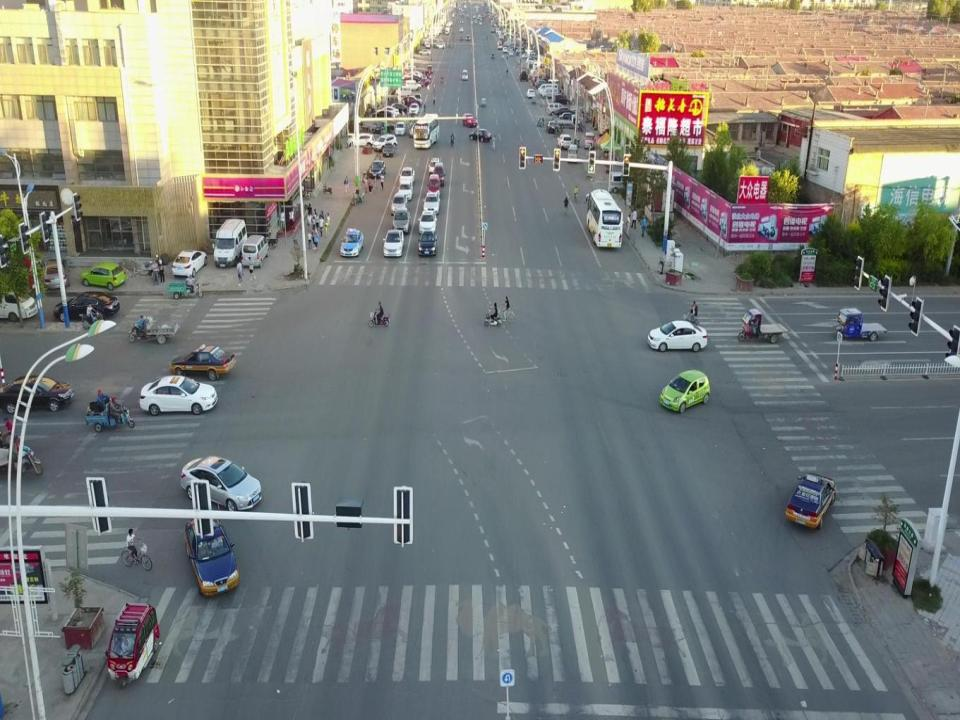bus: (585, 189, 623, 247), (411, 113, 439, 149)
car: (181, 455, 262, 513), (184, 516, 239, 596), (139, 375, 217, 415), (0, 375, 74, 413), (785, 473, 836, 528), (169, 344, 236, 380), (660, 370, 710, 413), (54, 292, 119, 322), (648, 320, 708, 352), (171, 250, 207, 277), (340, 228, 364, 256), (382, 230, 404, 256), (417, 230, 437, 255), (418, 211, 437, 234), (423, 192, 440, 214), (369, 160, 386, 179), (397, 180, 413, 200), (469, 129, 492, 142), (399, 166, 414, 185), (372, 122, 394, 134), (377, 106, 399, 118), (372, 109, 395, 120), (386, 102, 407, 114), (556, 107, 574, 118), (382, 142, 394, 157), (402, 72, 421, 81), (394, 122, 406, 136), (406, 75, 422, 85), (408, 124, 419, 138), (546, 121, 558, 133), (405, 70, 422, 78), (559, 112, 575, 120), (409, 102, 419, 114), (540, 88, 556, 95), (418, 78, 430, 87), (407, 72, 422, 79), (526, 88, 535, 98), (414, 93, 421, 104), (419, 49, 430, 55), (427, 65, 433, 73), (459, 36, 464, 40)
truck: (557, 114, 580, 129)
van: (212, 219, 248, 266), (0, 286, 37, 321), (80, 262, 126, 290), (39, 258, 70, 290), (241, 234, 269, 268), (610, 172, 636, 193), (391, 207, 411, 233), (372, 133, 397, 152), (346, 132, 374, 148), (390, 193, 408, 215), (427, 174, 441, 196), (433, 162, 444, 186), (462, 113, 478, 128), (557, 134, 572, 150), (546, 102, 564, 115), (537, 84, 558, 95), (428, 157, 440, 175), (552, 94, 570, 106), (395, 86, 412, 98), (402, 96, 422, 106), (568, 144, 578, 164), (404, 80, 422, 91), (542, 86, 558, 98), (584, 132, 594, 150), (384, 95, 400, 106), (409, 68, 425, 78), (532, 75, 545, 86), (535, 79, 549, 89), (535, 78, 549, 87), (462, 70, 468, 80), (465, 35, 470, 40), (459, 27, 463, 32)
